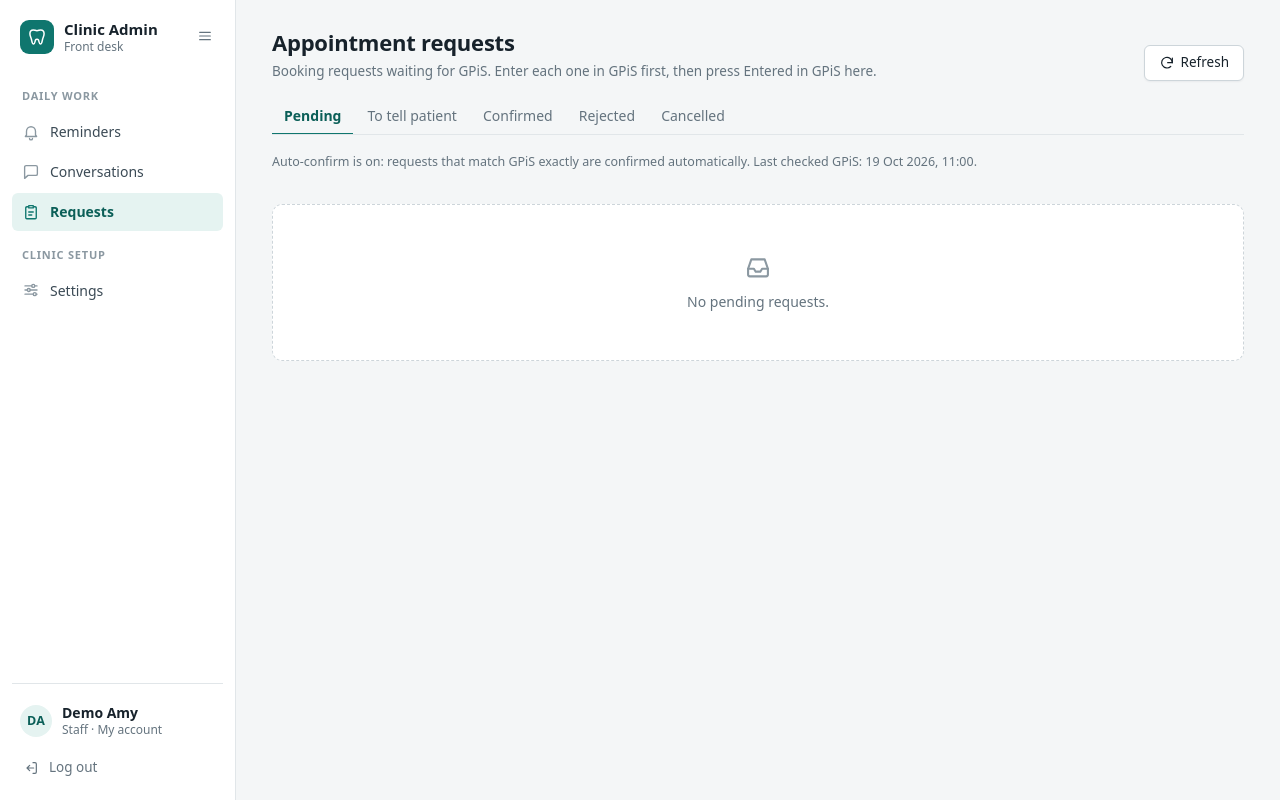
Test case: auto-confirm (D71 ②) › marks requests confirmed by auto-confirm
The width and height of the screenshot is (1280, 800).
Click the tab "Confirmed": (518, 117) [471,99,565,135]
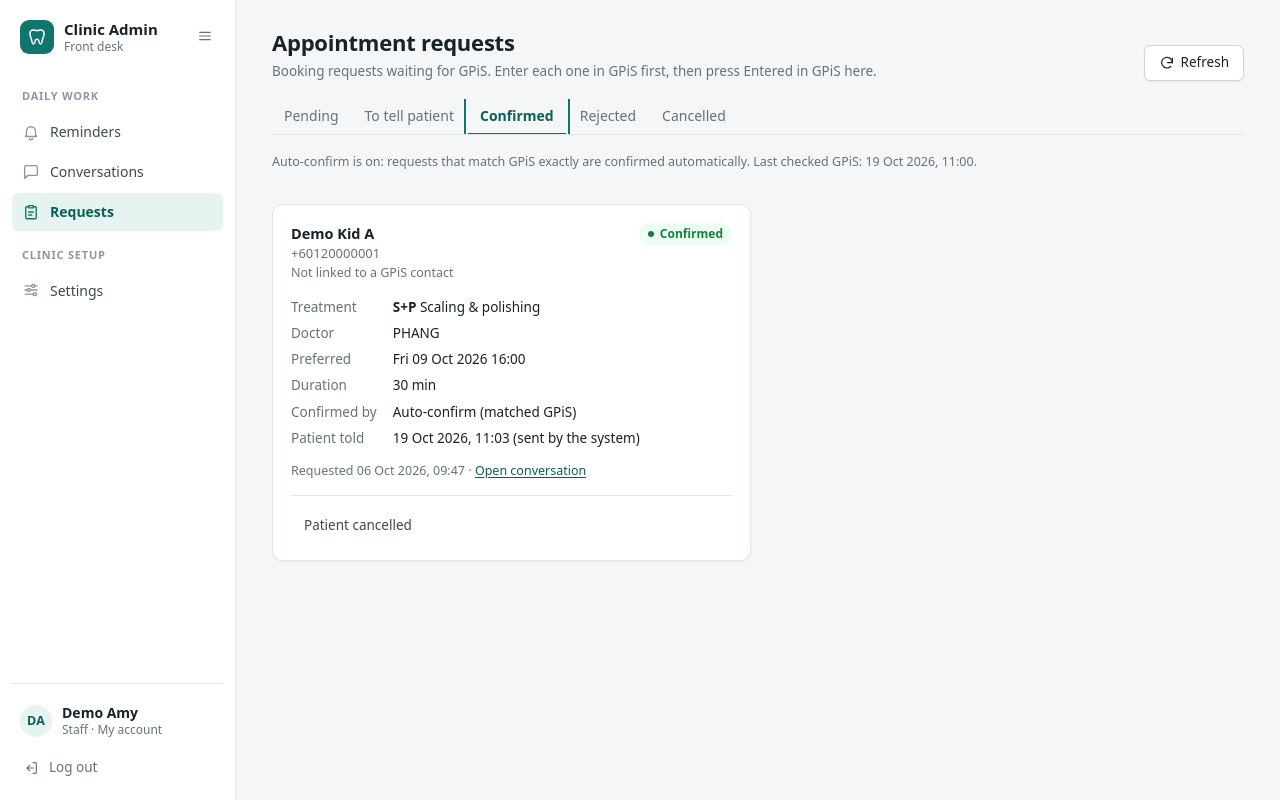
Expected: the text "Auto-confirm (matched GPiS)" is shown, [393,403,576,421]
